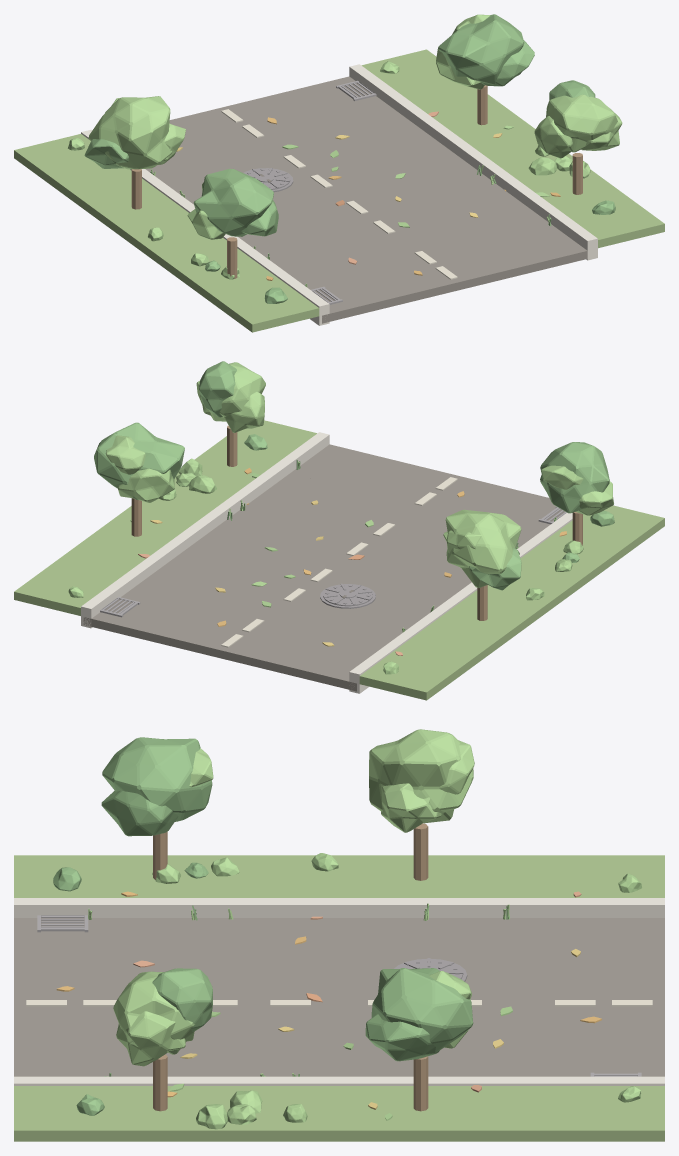
File: Road_Verge_A.fbx
3 views of the same model, one above another, from view 1: azimuth 30°, elevation 25°; view 2: azimuth 150°, elevation 25°; view 3: azimuth 270°, elevation 25° (orthographic). The views are drawn at different scales.
Visible parts, largest first — view 1: Road_Verge_A, Road_Verge_A_Veg; view 2: Road_Verge_A, Road_Verge_A_Veg; view 3: Road_Verge_A, Road_Verge_A_Veg.
Boxes of the visible parts, x1,y1,x2,y2 form: Road_Verge_A: (14,49,664,332); Road_Verge_A_Veg: (68,14,622,303); Road_Verge_A: (14,420,664,700); Road_Verge_A_Veg: (68,361,614,674); Road_Verge_A: (14,823,664,1141); Road_Verge_A_Veg: (53,729,641,1129).
Bounding box in the file's own units: 8.37 × 2.29 × 8.
